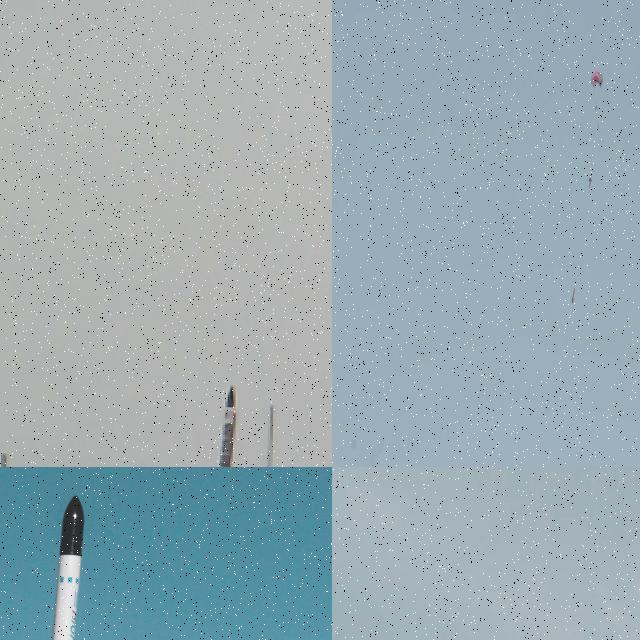Rocket: (26, 492, 105, 640), (197, 383, 239, 467), (571, 287, 575, 303)
